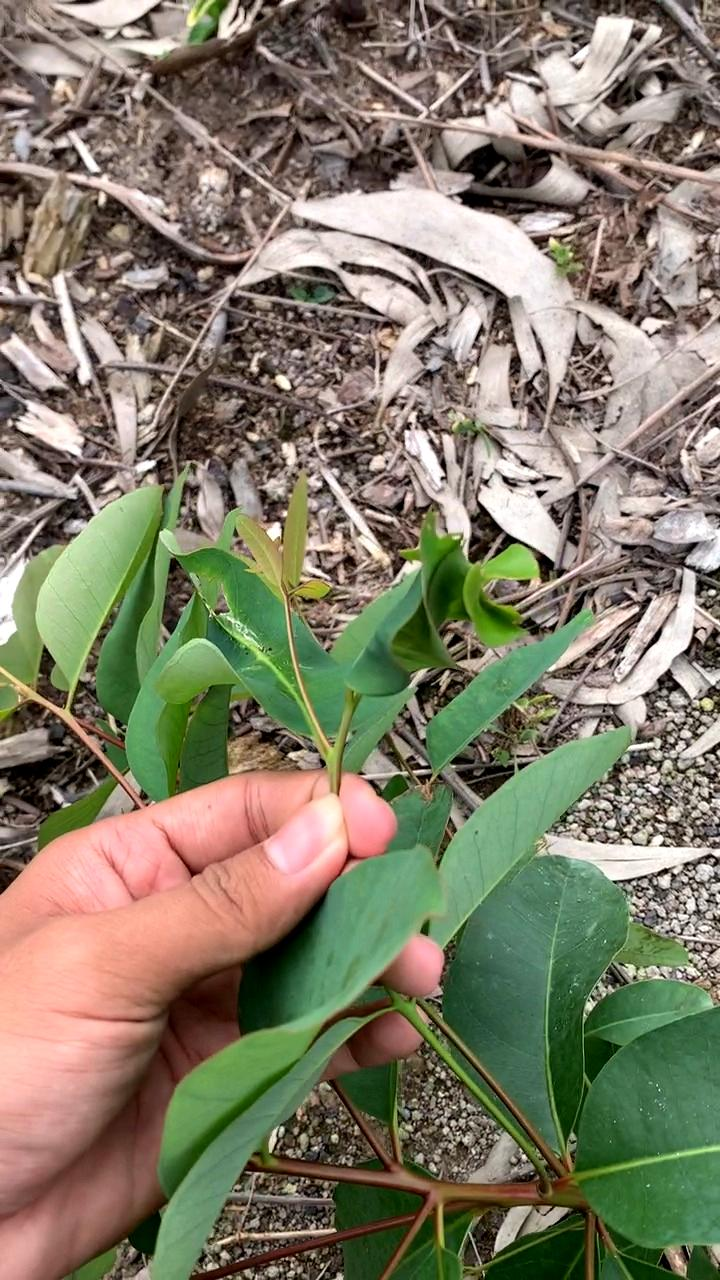Leaf Roller - Leaf: (319, 498, 566, 738)
